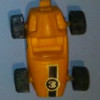carro: (12, 1, 88, 96)
